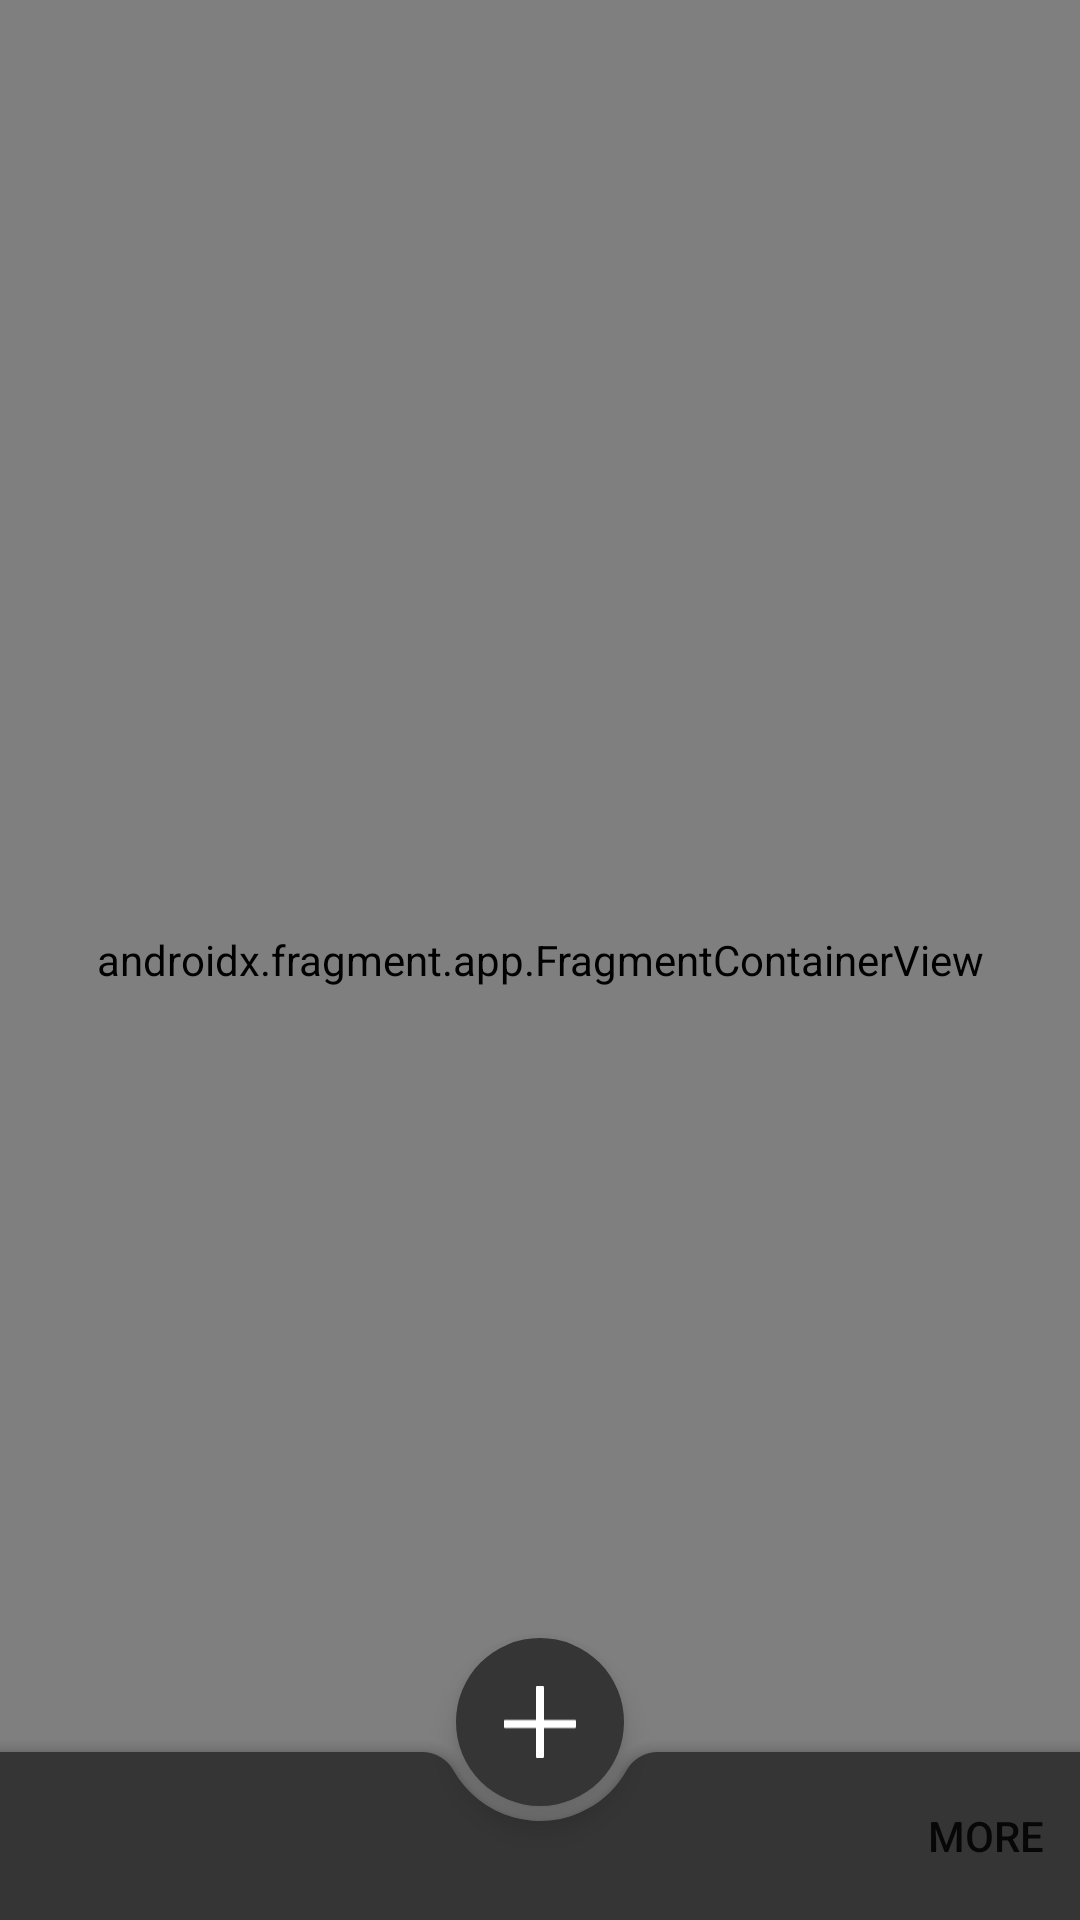

Icon click points for this 1080*1920 phone screenshot, format (x,y):
Add item: (540,1744)
